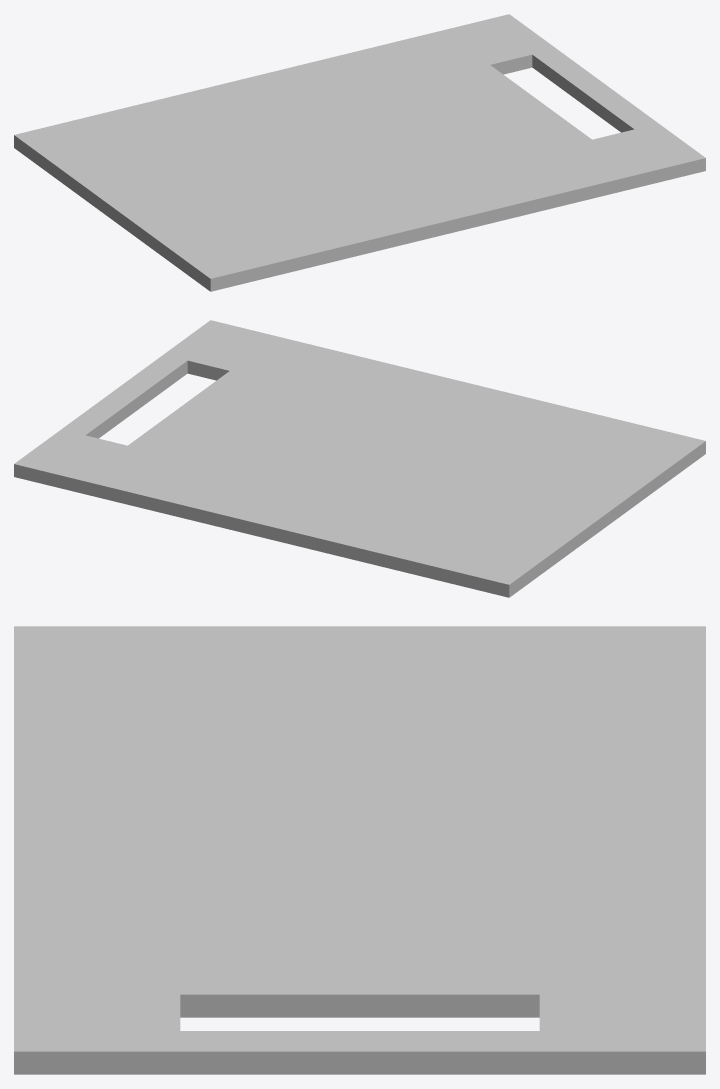
File: Cutting_Board.FBX
3 views of the same model, one above another, from view 1: azimuth 30°, elevation 25°; view 2: azimuth 150°, elevation 25°; view 3: azimuth 270°, elevation 25° (orthographic). The views are drawn at different scales.
Parts seen in each view (by area): view 1: Cutting_Board; view 2: Cutting_Board; view 3: Cutting_Board.
Part boxes in pixels (bbox=[...]): Cutting_Board: bbox=[14, 14, 705, 291]; Cutting_Board: bbox=[14, 320, 705, 597]; Cutting_Board: bbox=[14, 626, 705, 1074].
Size of the model in its own units: 80 by 2 by 55.
